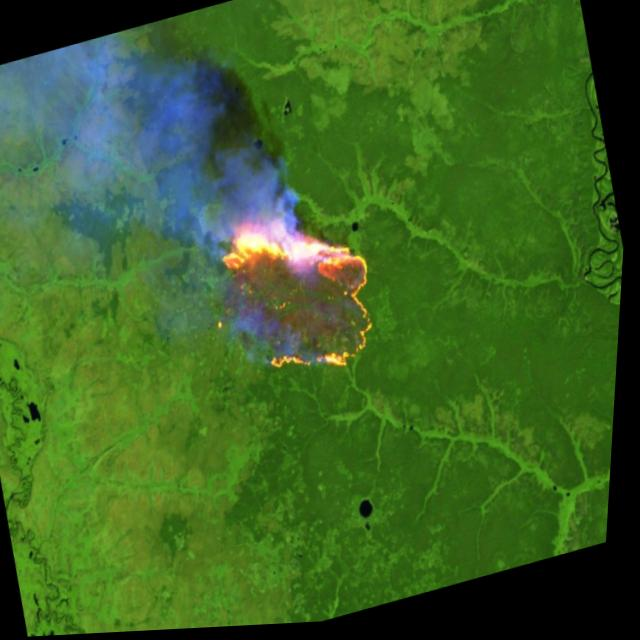fire: (204, 184, 403, 404)
